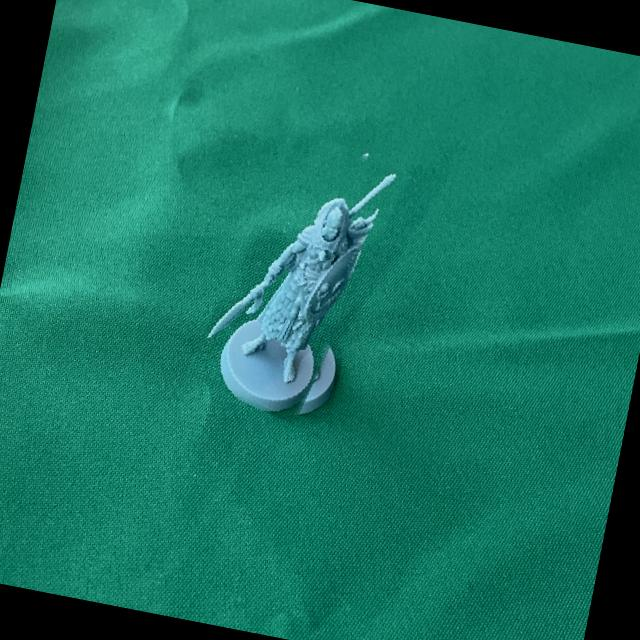isis_follower: (194, 120, 398, 430)
